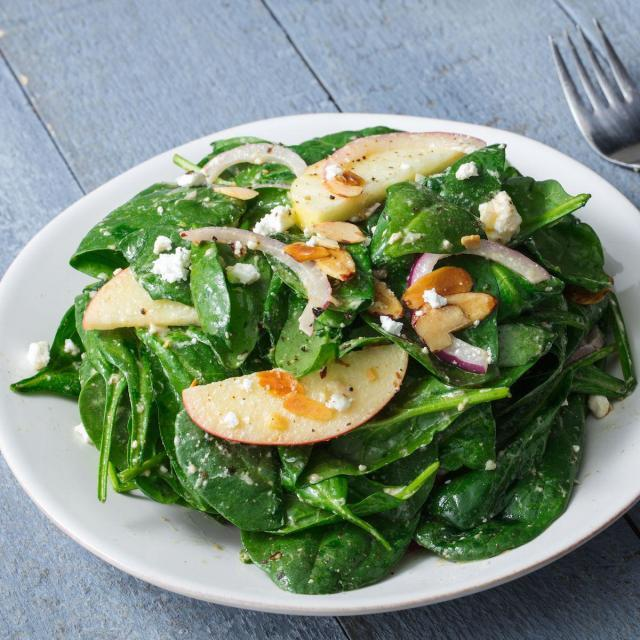Apple: (171, 340, 408, 458), (277, 126, 487, 233)
Spinach: (28, 121, 638, 583)
